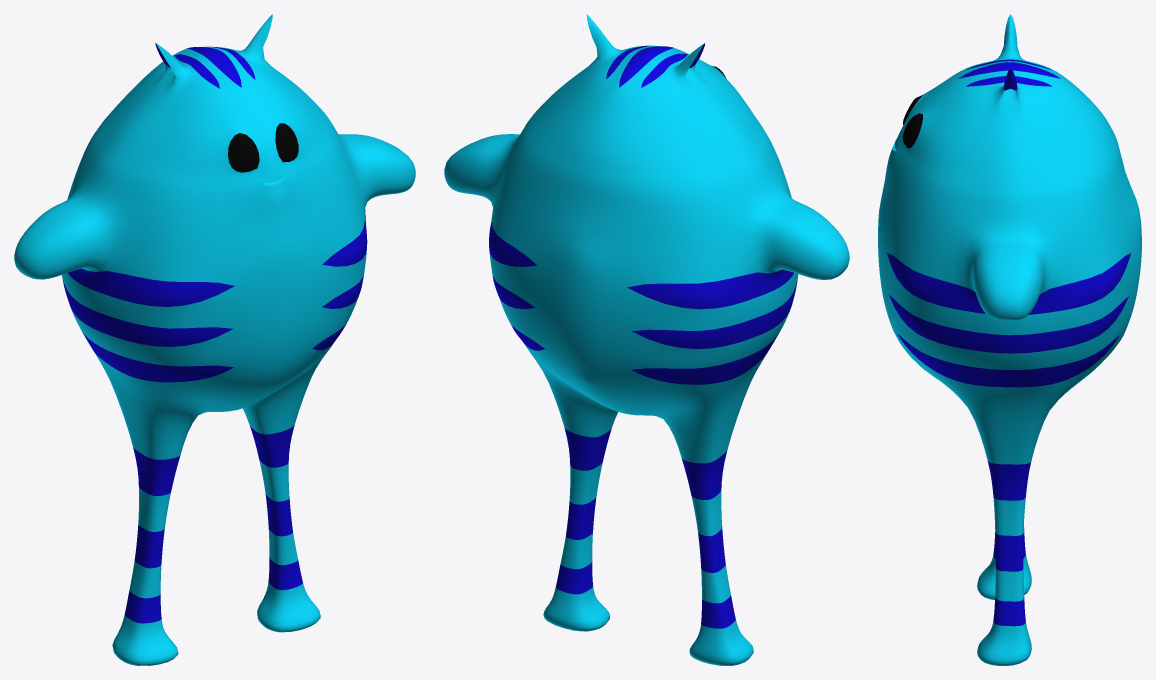
The model's file is personagem 2.fbx.
The picture shows the model from 3 angles, left to right: view 1: azimuth 30°, elevation 25°; view 2: azimuth 150°, elevation 25°; view 3: azimuth 270°, elevation 25°; orthographic projection. The views are drawn at different scales.
Visible parts, largest first — view 1: Box001sim; view 2: Box001sim; view 3: Box001sim.
Part boxes in pixels (x1,y1,x2,y2): Box001sim: (14,14,415,665); Box001sim: (444,14,849,665); Box001sim: (878,14,1141,665).
Size of the model in its own units: 7.75 by 11.5 by 4.71.
